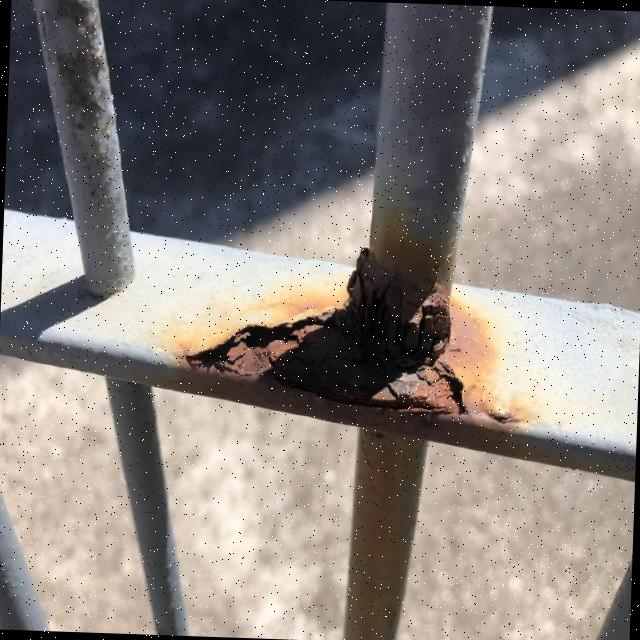Corrosion: (182, 242, 484, 416)
